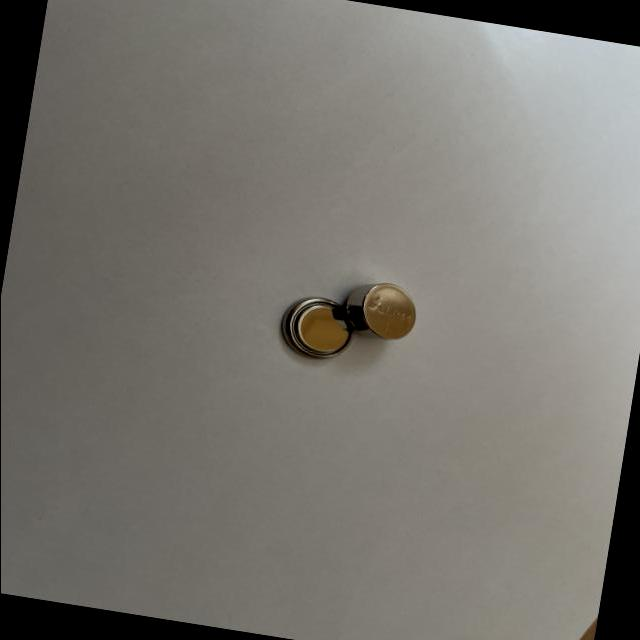COIN: (272, 292, 356, 366), (337, 276, 419, 346)
